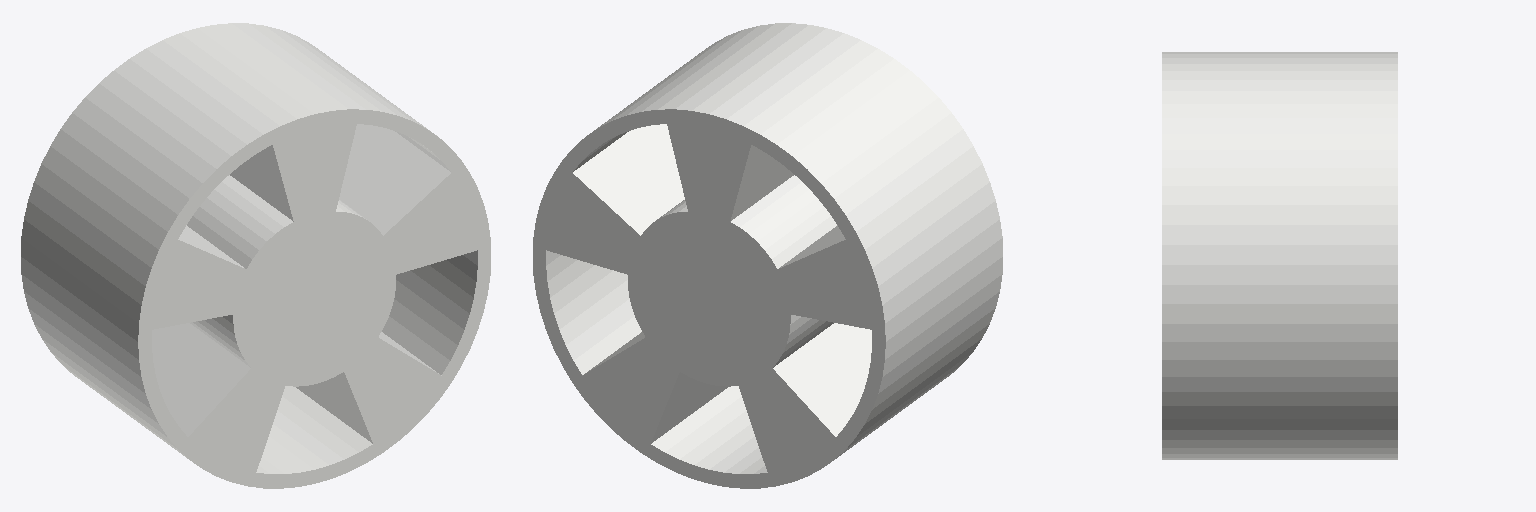
Rendered from wheel.obj.
3 views of the same model, side by side, from view 1: azimuth 30°, elevation 25°; view 2: azimuth 150°, elevation 25°; view 3: azimuth 270°, elevation 25° (orthographic).
Visible parts, largest first — view 1: Cerchione; view 2: Cerchione; view 3: Cerchione.
Boxes of the visible parts, <box> form: Cerchione: <box>21,23,490,488</box>; Cerchione: <box>533,23,1002,488</box>; Cerchione: <box>1162,52,1397,459</box>.
Size of the model in its own units: 130 by 130 by 75.